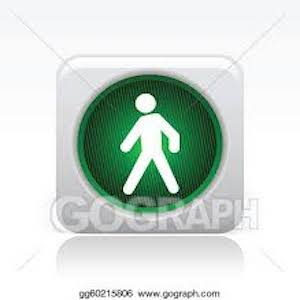green: (108, 86, 192, 205)
